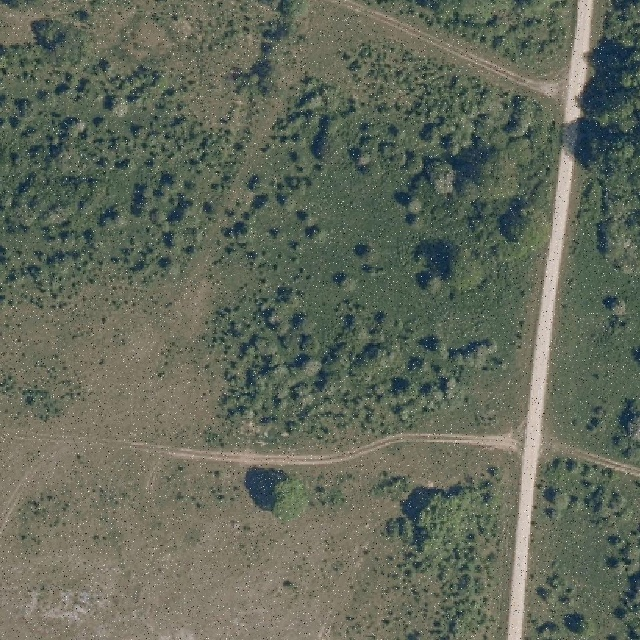vegetation: (220, 41, 550, 431), (0, 26, 223, 310), (365, 464, 496, 637), (575, 0, 638, 279)
